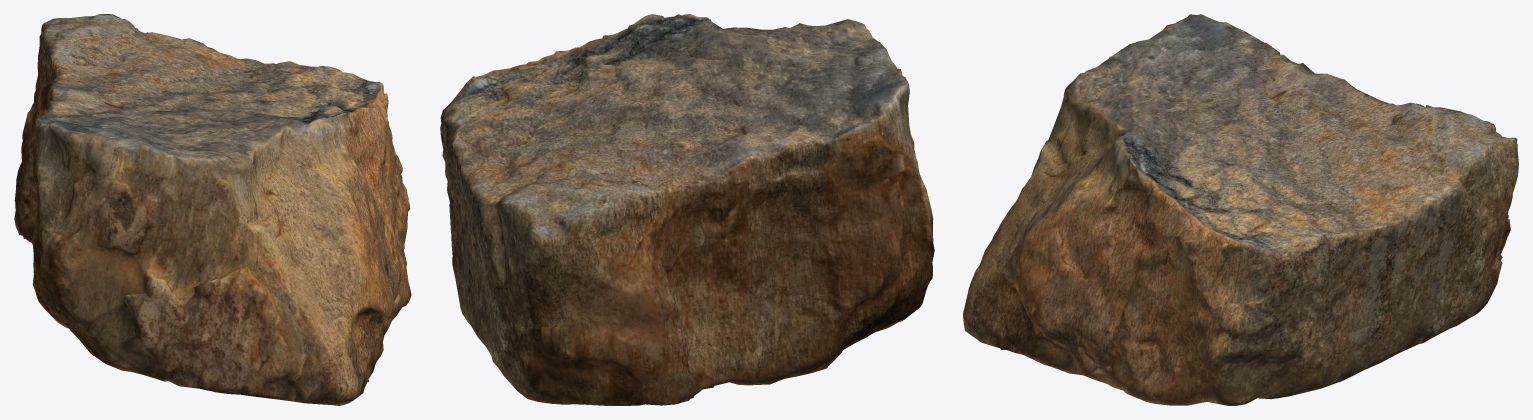
The model's file is namaqualand_boulder_03.glb.
3 renders of one model, left to right at view 1: azimuth 30°, elevation 25°; view 2: azimuth 150°, elevation 25°; view 3: azimuth 270°, elevation 25°, orthographic. The views are drawn at different scales.
Visible parts, largest first — view 1: boulder_03_LOD0; view 2: boulder_03_LOD0; view 3: boulder_03_LOD0.
Part boxes in pixels (left/top/right/bottom): boulder_03_LOD0: left=14, top=14, right=411, bottom=405; boulder_03_LOD0: left=440, top=14, right=934, bottom=405; boulder_03_LOD0: left=963, top=14, right=1518, bottom=405.
Bounding box in the file's own units: 2.4 × 1.47 × 3.06.
1 material, 1 textured.
